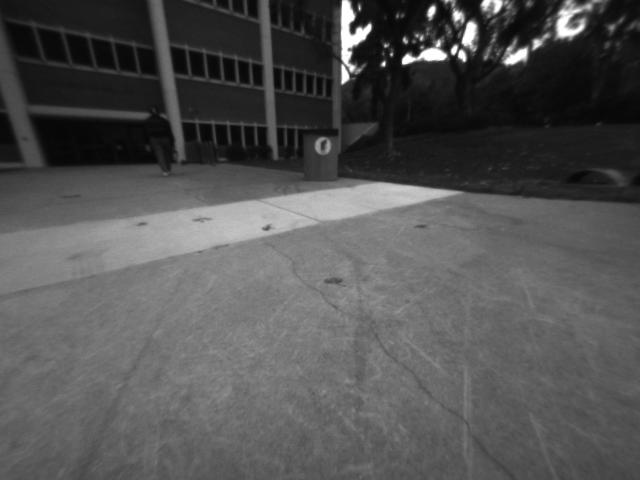trashcan: (301, 133, 337, 186)
